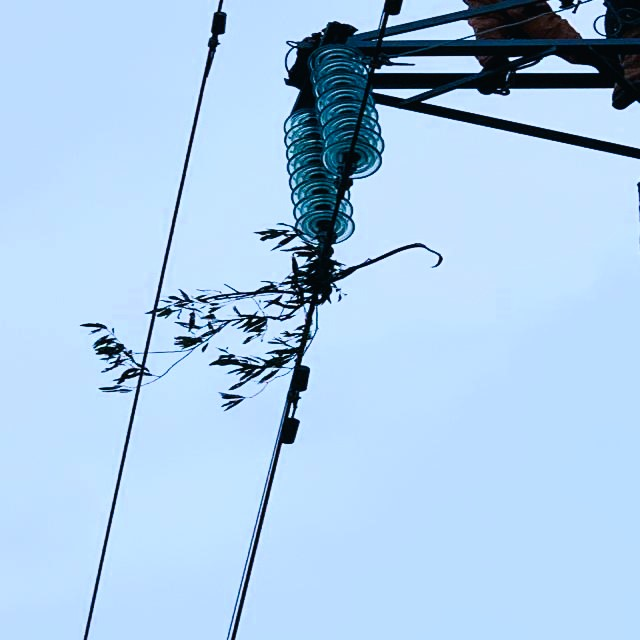wire foreign body: (157, 231, 387, 392)
